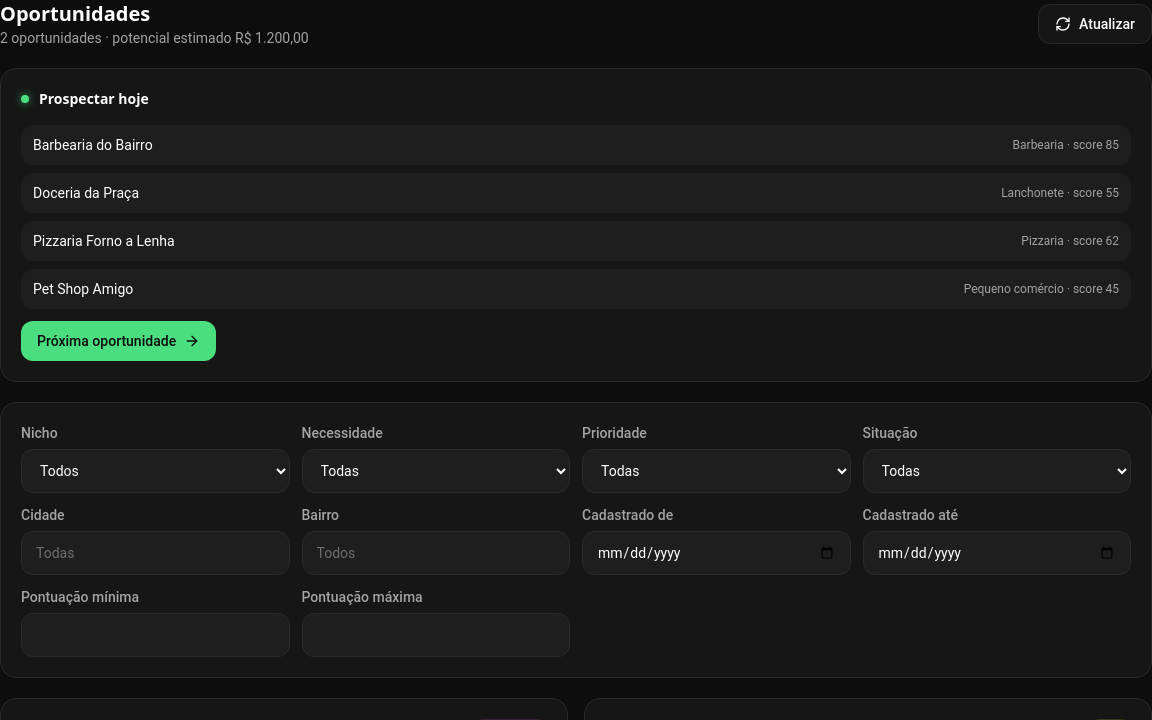
Test: OpportunitiesPage fila Prospectar hoje › mantém o erro da fila ao filtrar e oferece retry independente da lista principal
Expected: the heading "Prospectar hoje" is shown, [39,89,149,109]
Click the button "Atualizar" at (1095, 24), box [1038,4,1151,44]
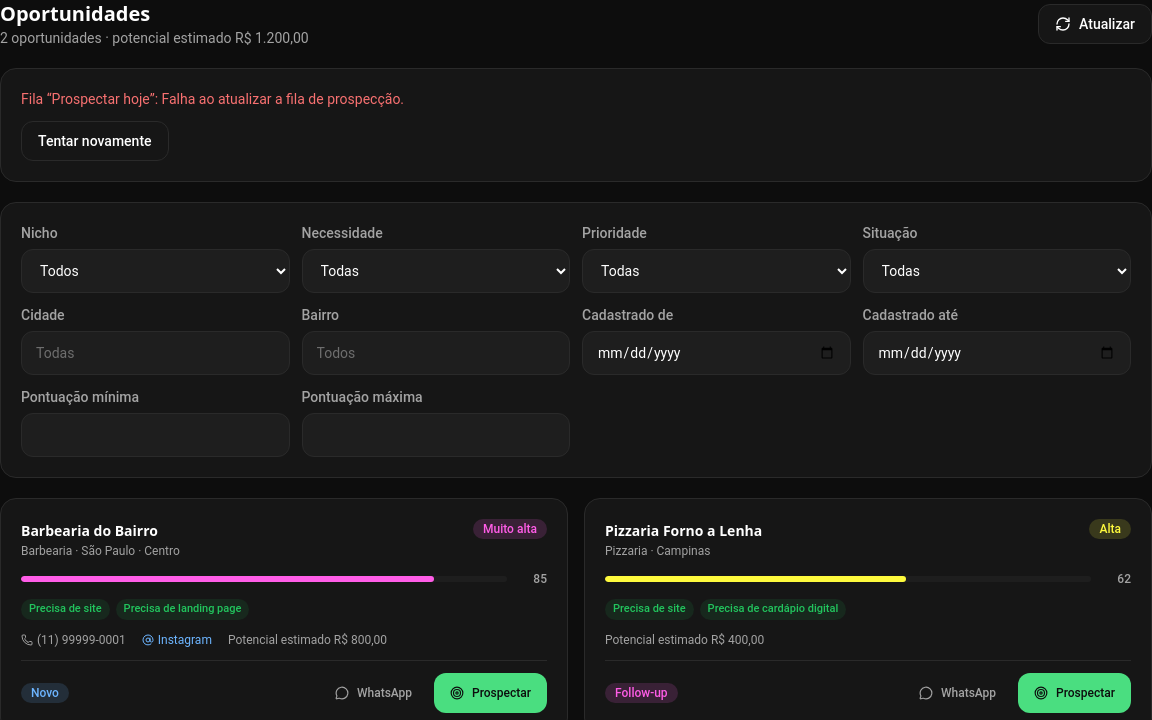
Expected: the number of buttons "Prospectar " is 2, [434,672,547,712]; [1018,672,1131,712]
Now the message shows "Falha ao atualizar a fila de prospecção", box [162,91,404,107]
Select "Pizzaria" in the dropdown labelled "Nicho" at (155, 271), box [21,249,290,293]
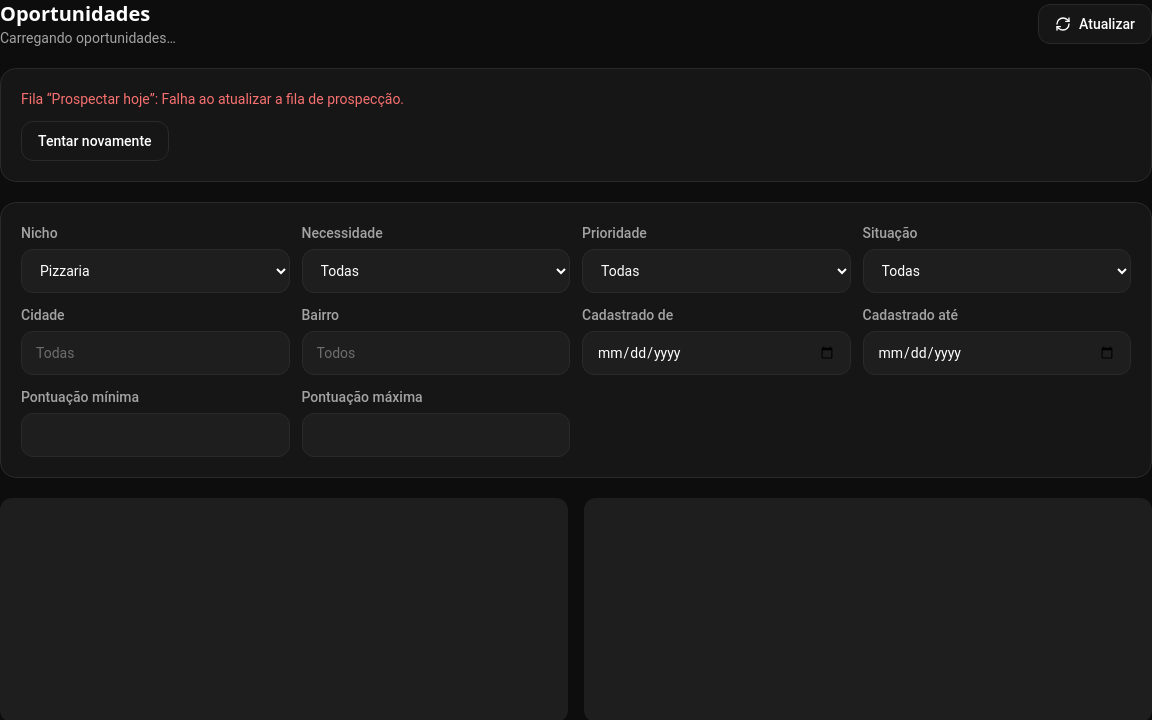
Now the message shows "Falha ao atualizar a fila de prospecção", box [162,91,404,107]
Click the button "Tentar novamente" at (95, 141), box [21,121,169,161]
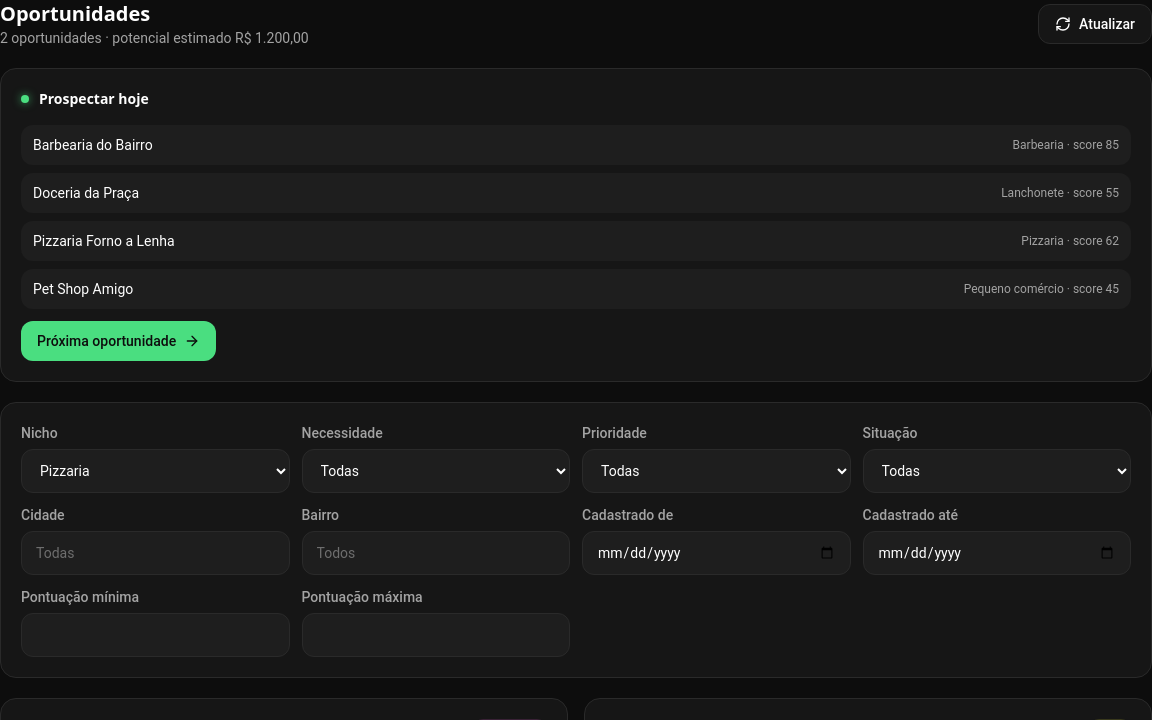
Expected: the heading "Prospectar hoje" is shown, [39,89,149,109]
Now the message is gone
